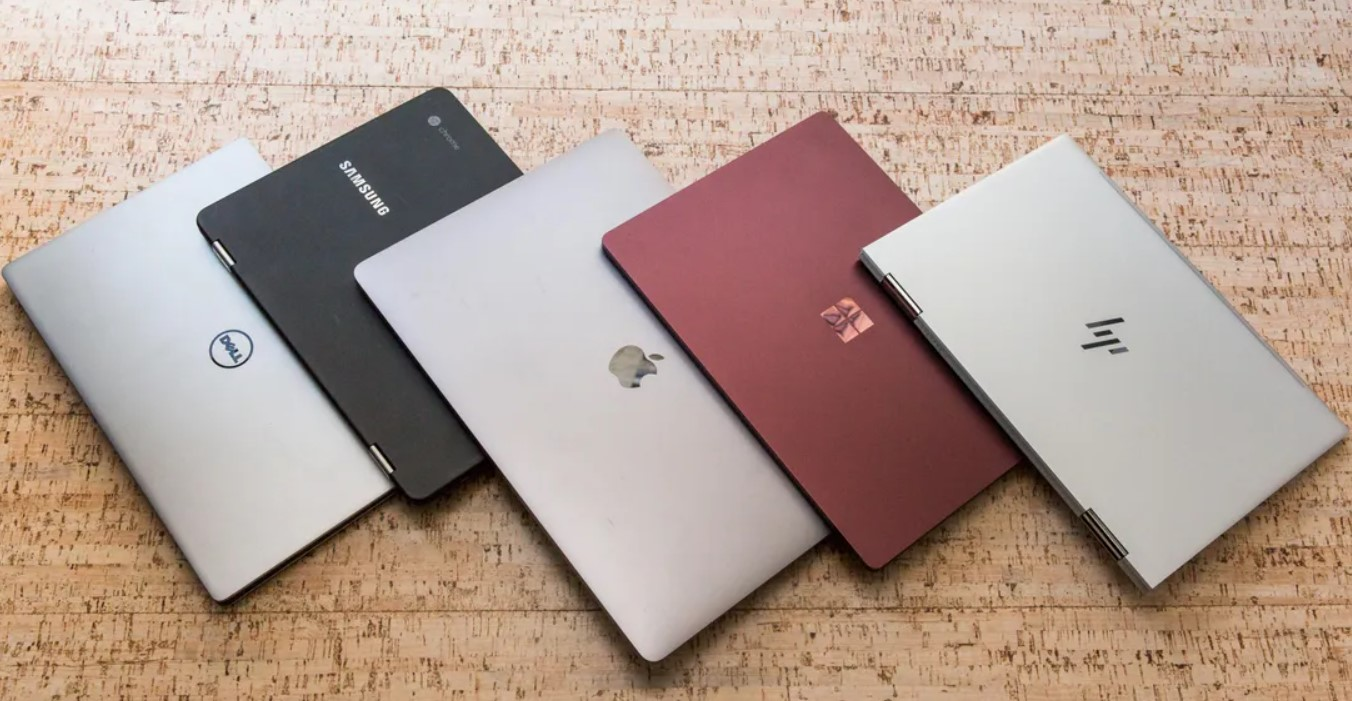laptops: (355, 216, 901, 656), (857, 132, 1352, 597), (601, 111, 1014, 581), (7, 145, 401, 580)
